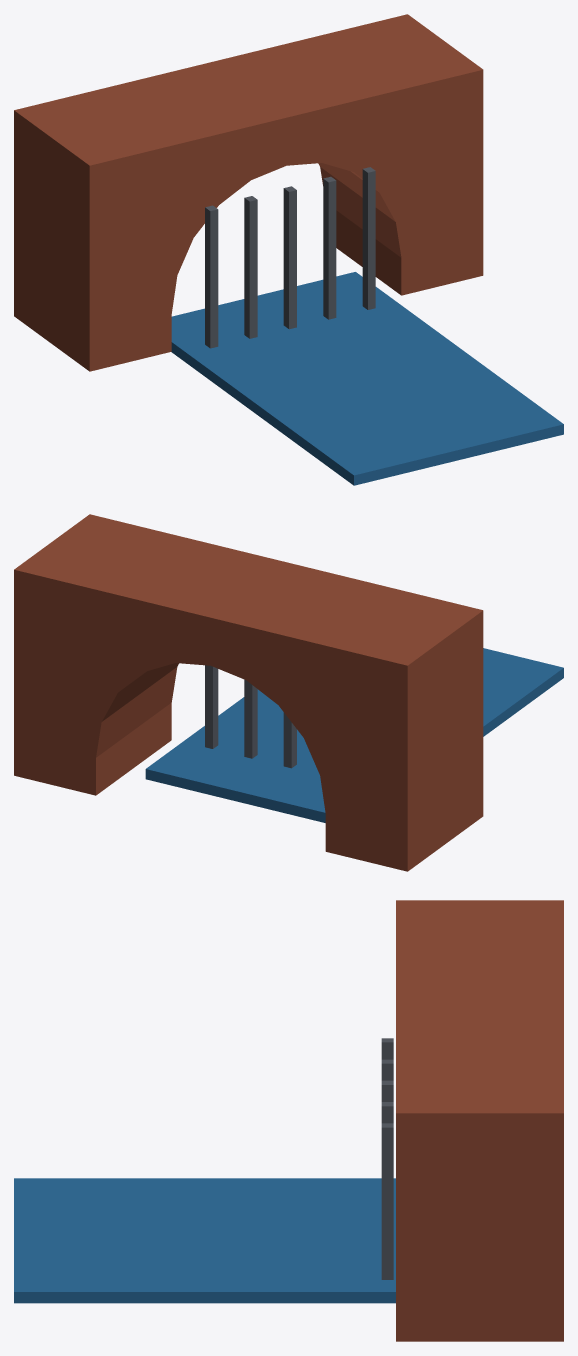
File: building_sewer.fbx
3 renders of one model, top to bottom at view 1: azimuth 30°, elevation 25°; view 2: azimuth 150°, elevation 25°; view 3: azimuth 270°, elevation 25°, orthographic. The views are drawn at different scales.
Parts seen in each view (by area): view 1: building_sewer; view 2: building_sewer; view 3: building_sewer.
Part boxes in pixels (x1,y1,x2,y2): building_sewer: (14, 14, 563, 485); building_sewer: (14, 514, 563, 871); building_sewer: (14, 900, 563, 1341).
Bounding box in the file's own units: 60 × 31.5 × 65.5.
